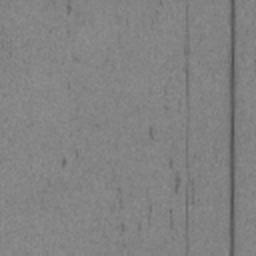Scratches: (228, 0, 236, 256), (184, 3, 189, 256)
